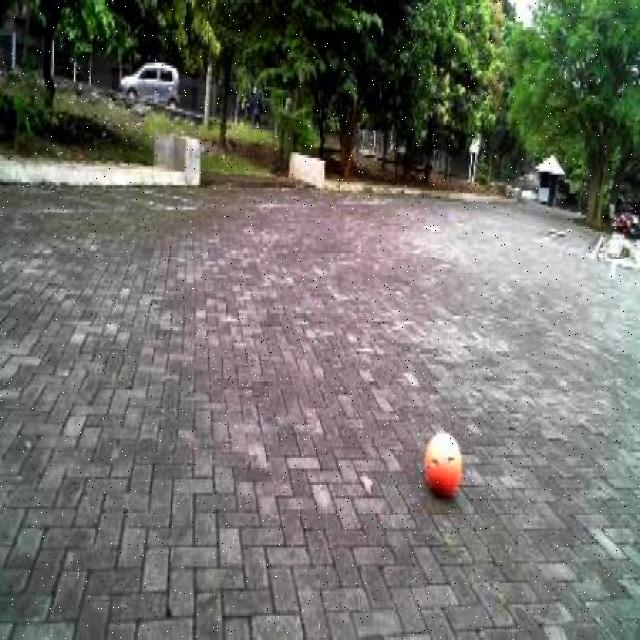buoy: (418, 417, 468, 506)
